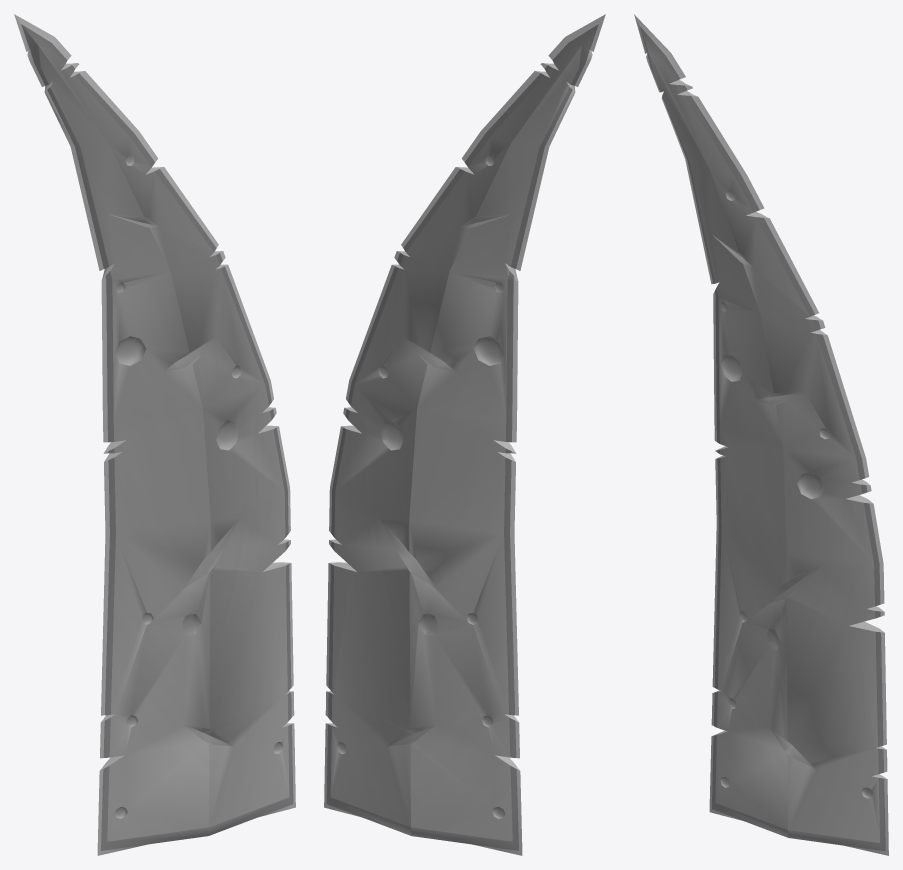
File: stone_blade_bubbles_052.glb
3 views of the same model, side by side, from view 1: azimuth 30°, elevation 25°; view 2: azimuth 150°, elevation 25°; view 3: azimuth 330°, elevation 25° (orthographic). The views are drawn at different scales.
Parts seen in each view (by area): view 1: stone_blade_bubbles.052; view 2: stone_blade_bubbles.052; view 3: stone_blade_bubbles.052.
Part boxes in pixels (left/top/right/bottom): stone_blade_bubbles.052: left=14, top=14, right=295, bottom=855; stone_blade_bubbles.052: left=324, top=14, right=605, bottom=855; stone_blade_bubbles.052: left=634, top=14, right=888, bottom=855.
Bounding box in the file's own units: 4.2 × 12.29 × 0.7262.
1 material, 1 textured.
